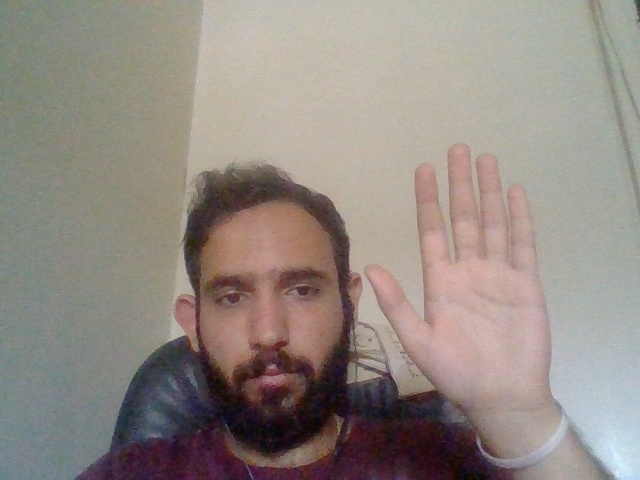Goodbye: (352, 137, 588, 436)
